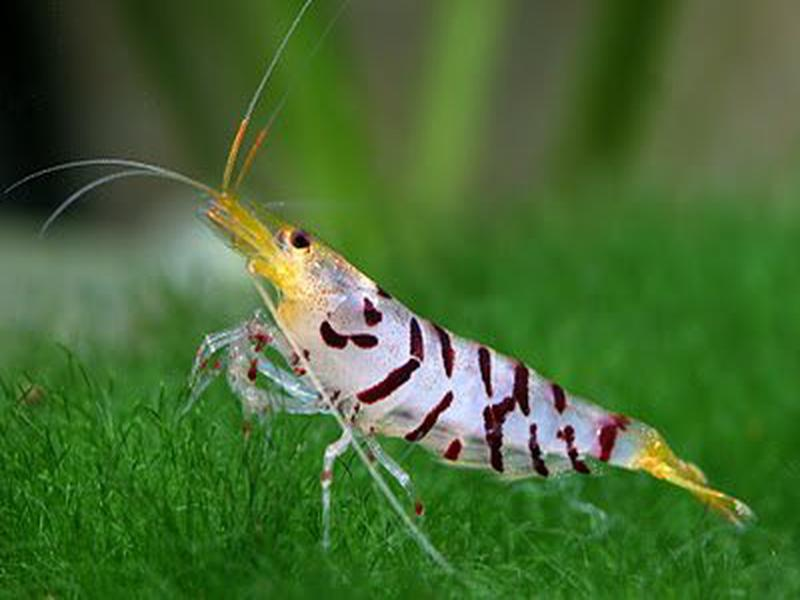shrimp: (197, 190, 756, 530)
